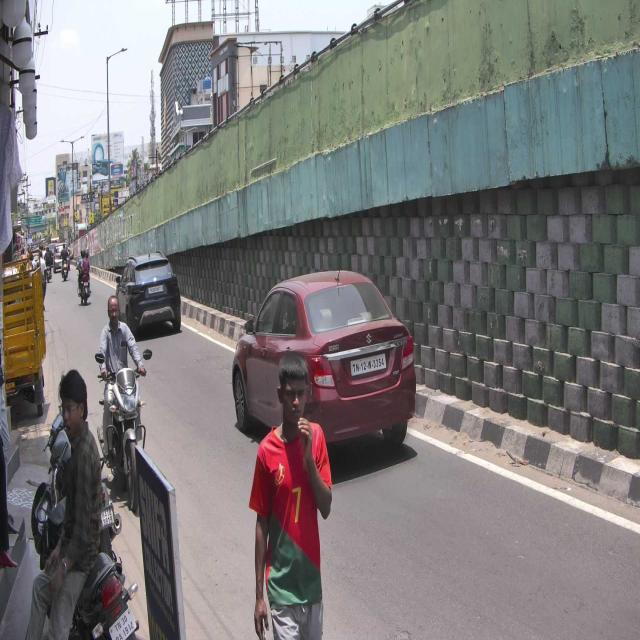single_rider: (91, 288, 156, 521)
